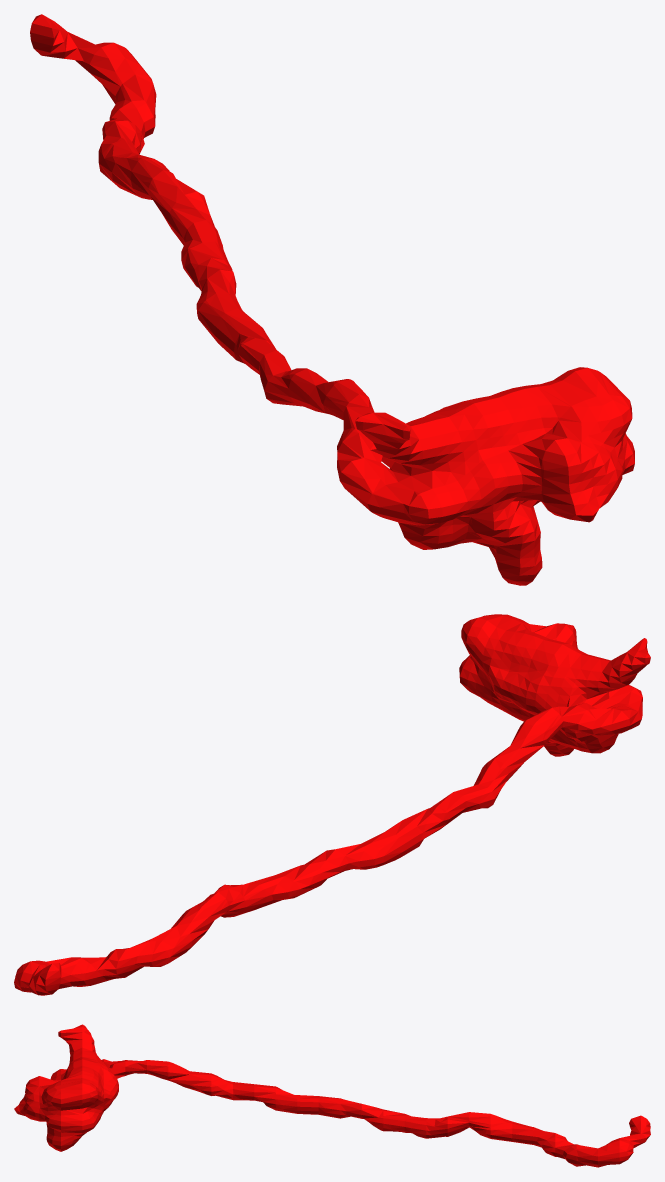
File: atpB_coarse.dae
3 views of the same model, one above another, from view 1: azimuth 30°, elevation 25°; view 2: azimuth 150°, elevation 25°; view 3: azimuth 270°, elevation 25° (orthographic). The views are drawn at different scales.
Visible parts, largest first — view 1: atpB; view 2: atpB; view 3: atpB.
Part boxes in pixels (<box>): atpB: <box>30,14,634,585</box>; atpB: <box>14,614,650,995</box>; atpB: <box>14,1024,650,1167</box>.
Size of the model in its own units: 83.38 by 47.41 by 291.
